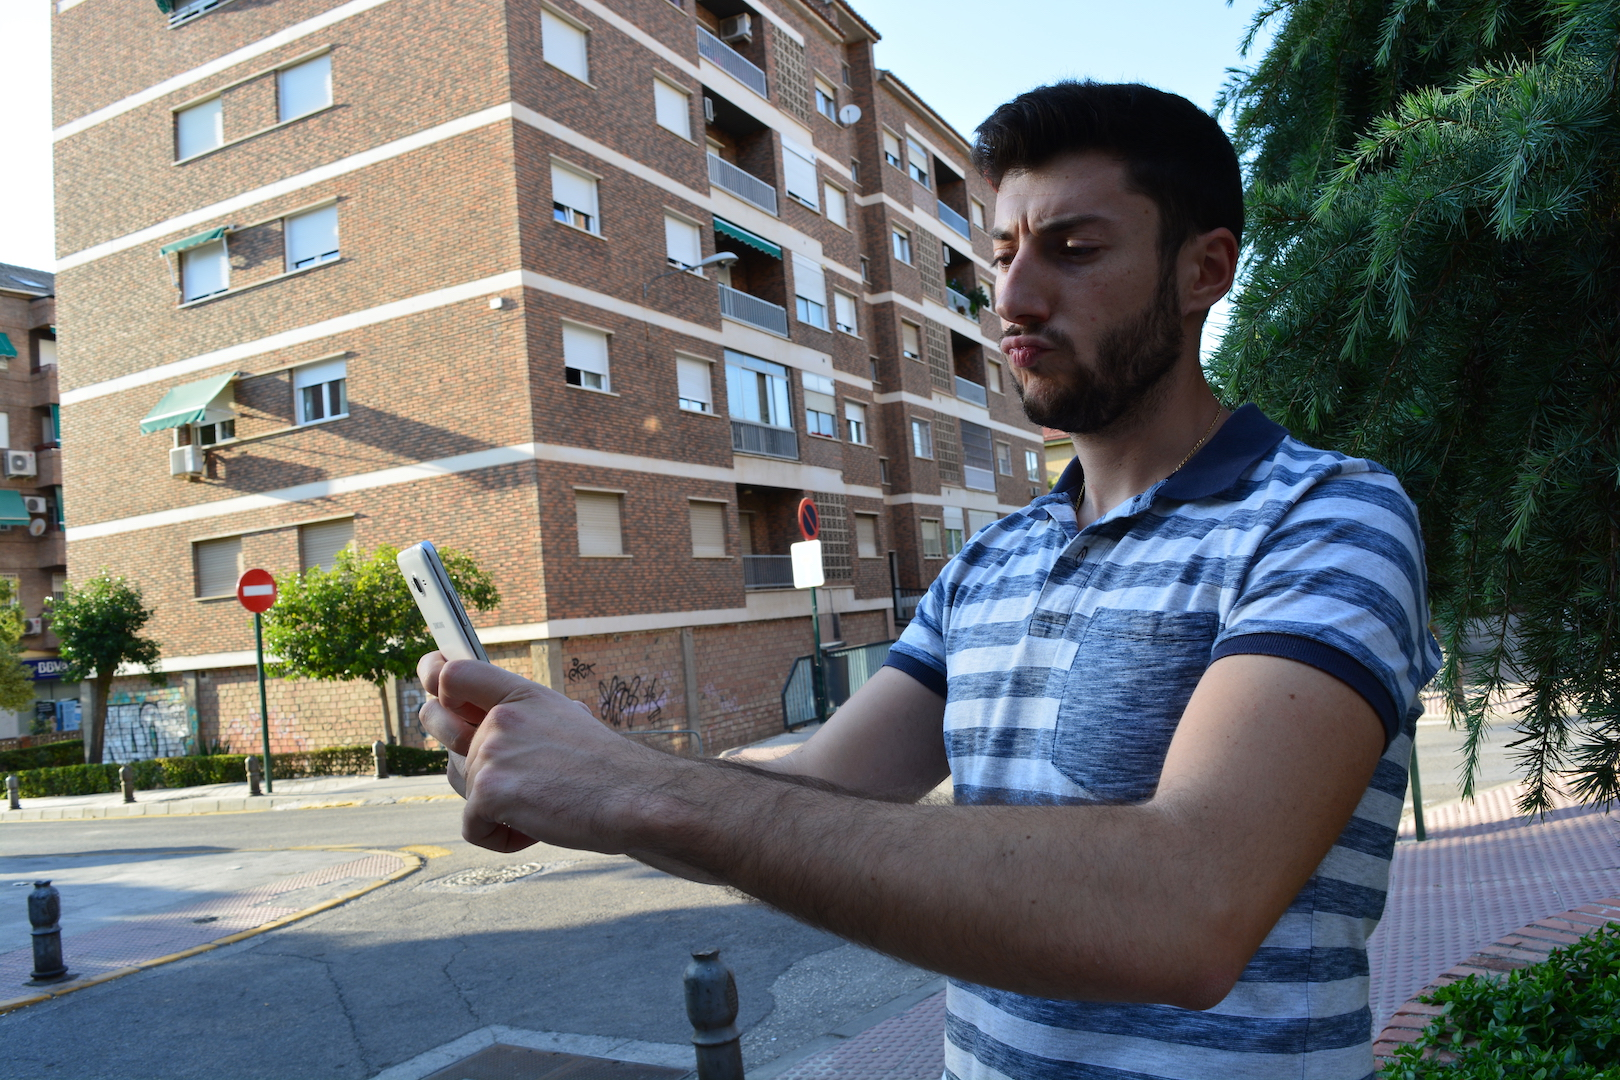smartphone: (395, 540, 492, 669)
